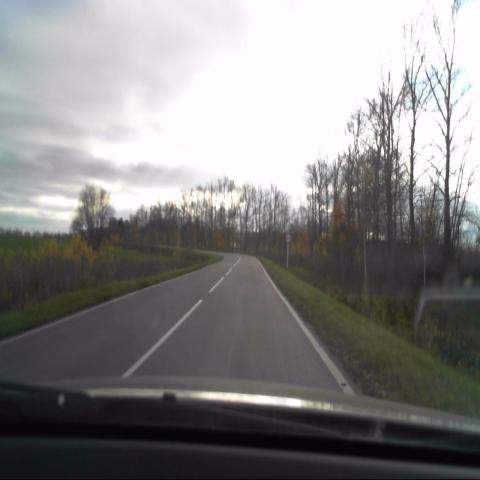3_20: (284, 232, 292, 243)
